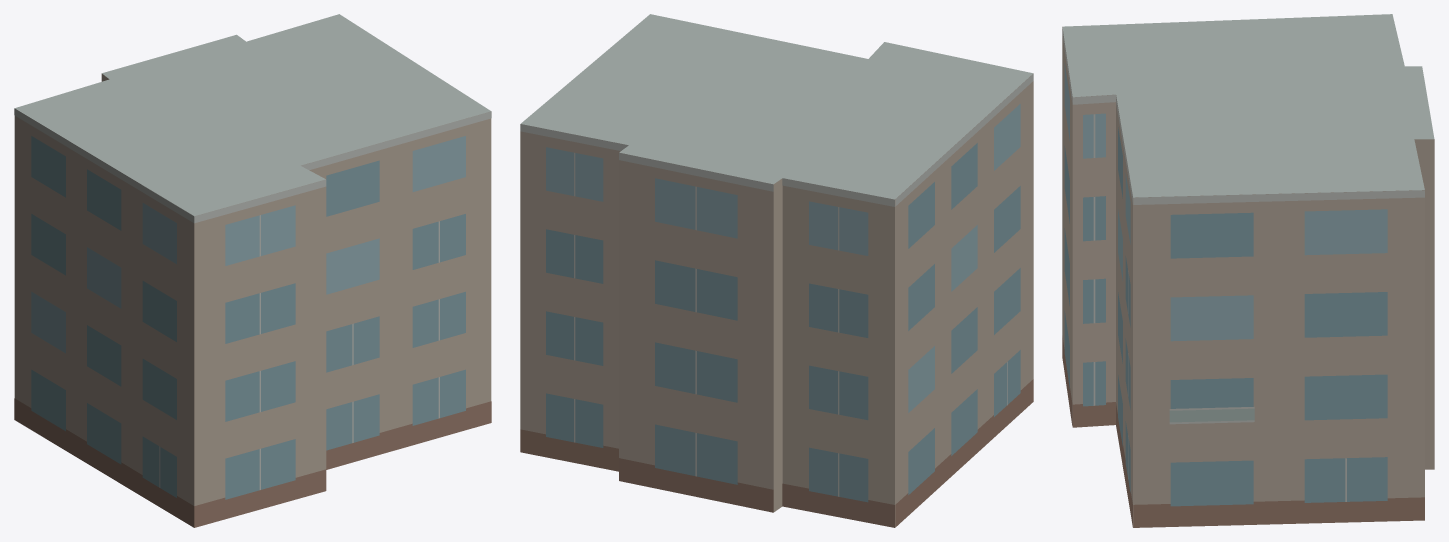
File: survey-upis-33012355.glb
3 views of the same model, side by side, from view 1: azimuth 30°, elevation 25°; view 2: azimuth 150°, elevation 25°; view 3: azimuth 270°, elevation 25° (orthographic). The views are drawn at different scales.
Visible parts, largest first — view 1: survey-upis-33012355.tmp; view 2: survey-upis-33012355.tmp; view 3: survey-upis-33012355.tmp.
Part boxes in pixels (x1=…): survey-upis-33012355.tmp: x1=14, y1=14, x2=491, y2=527; survey-upis-33012355.tmp: x1=520, y1=14, x2=1033, y2=527; survey-upis-33012355.tmp: x1=1062, y1=14, x2=1434, y2=527.
Bounding box in the file's own units: 12.76 × 10.7 × 10.93.
